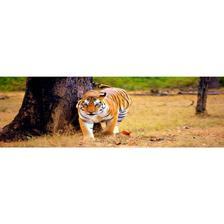tiger: (67, 79, 137, 149)
